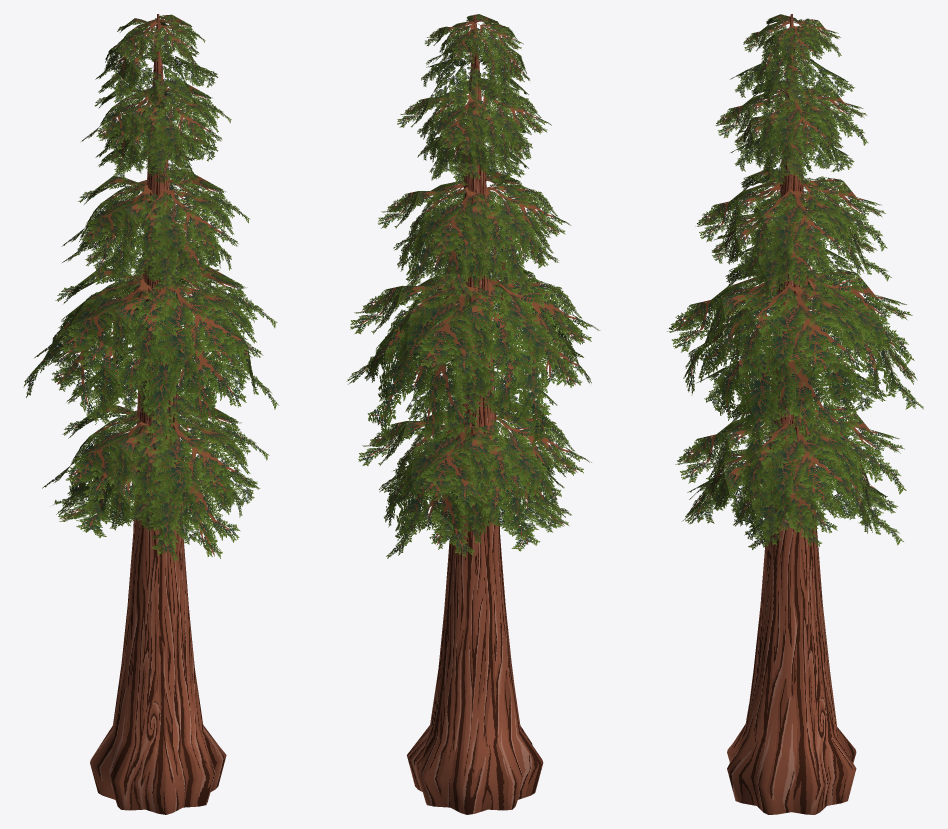
Rendered from red tree real.fbx.
The picture shows the model from 3 angles, left to right: view 1: azimuth 30°, elevation 25°; view 2: azimuth 150°, elevation 25°; view 3: azimuth 270°, elevation 25°; orthographic projection.
Parts seen in each view (by area): view 1: Circle, IMG_1008.014, IMG_1008.038, IMG_1008.026, IMG_1008.015, IMG_1008.010, IMG_1008.035, IMG_1008.025, IMG_1008.039, IMG_1008.011, IMG_1008.005, IMG_1008.034 (+28 smaller); view 2: Circle, IMG_1008.027, IMG_1008.013, IMG_1008.015, IMG_1008.037, IMG_1008.039, IMG_1008.025, IMG_1008.036, IMG_1008.009, IMG_1008.011, IMG_1008.023, IMG_1008.034 (+21 smaller); view 3: Circle, IMG_1008.024, IMG_1008.016, IMG_1008.040, IMG_1008.012, IMG_1008.013, IMG_1008.033, IMG_1008.008, IMG_1008.014, IMG_1008.037, IMG_1008.020, IMG_1008.027 (+29 smaller).
Part boxes in pixels (x1,y1,x2,y2): Circle: [90, 14, 226, 814]; IMG_1008.014: [127, 283, 263, 398]; IMG_1008.038: [128, 419, 255, 525]; IMG_1008.026: [116, 296, 248, 437]; IMG_1008.015: [34, 278, 162, 372]; IMG_1008.010: [134, 188, 238, 277]; IMG_1008.035: [127, 454, 240, 561]; IMG_1008.025: [23, 291, 138, 424]; IMG_1008.039: [42, 414, 161, 500]; IMG_1008.011: [61, 185, 160, 257]; IMG_1008.005: [138, 95, 222, 166]; IMG_1008.034: [52, 431, 148, 534]; Circle: [407, 14, 543, 814]; IMG_1008.027: [364, 292, 498, 443]; IMG_1008.013: [382, 282, 499, 381]; IMG_1008.015: [469, 276, 600, 385]; IMG_1008.037: [389, 421, 497, 510]; IMG_1008.039: [469, 411, 591, 513]; IMG_1008.025: [479, 295, 591, 447]; IMG_1008.036: [384, 446, 492, 558]; IMG_1008.009: [403, 187, 493, 265]; IMG_1008.011: [470, 183, 571, 268]; IMG_1008.023: [397, 207, 491, 297]; IMG_1008.034: [470, 445, 571, 551]; Circle: [727, 14, 856, 814]; IMG_1008.024: [716, 295, 863, 462]; IMG_1008.016: [738, 283, 866, 399]; IMG_1008.040: [741, 423, 861, 527]; IMG_1008.012: [750, 188, 850, 278]; IMG_1008.013: [804, 268, 914, 364]; IMG_1008.033: [733, 440, 838, 549]; IMG_1008.008: [759, 97, 838, 167]; IMG_1008.014: [667, 275, 776, 352]; IMG_1008.037: [804, 404, 906, 494]; IMG_1008.020: [742, 210, 830, 298]; IMG_1008.027: [827, 289, 923, 409].
Bounding box in the file's own units: 1869 × 5516 × 1844.
Materials: 3 (3 with a texture image).
